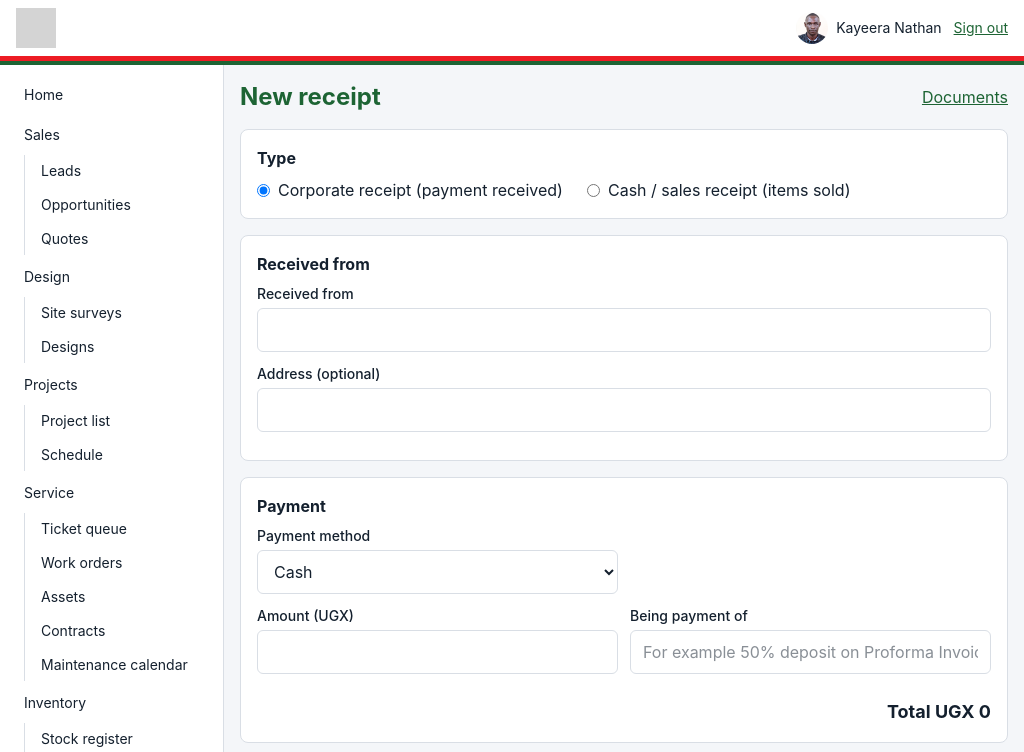
Test: receipts › needs at least one item for a cash / sales receipt
Type "Walk-in customer" into the field labelled "Received from".
click(624, 330); type("Walk-in customer")  # box [257,308,991,352]
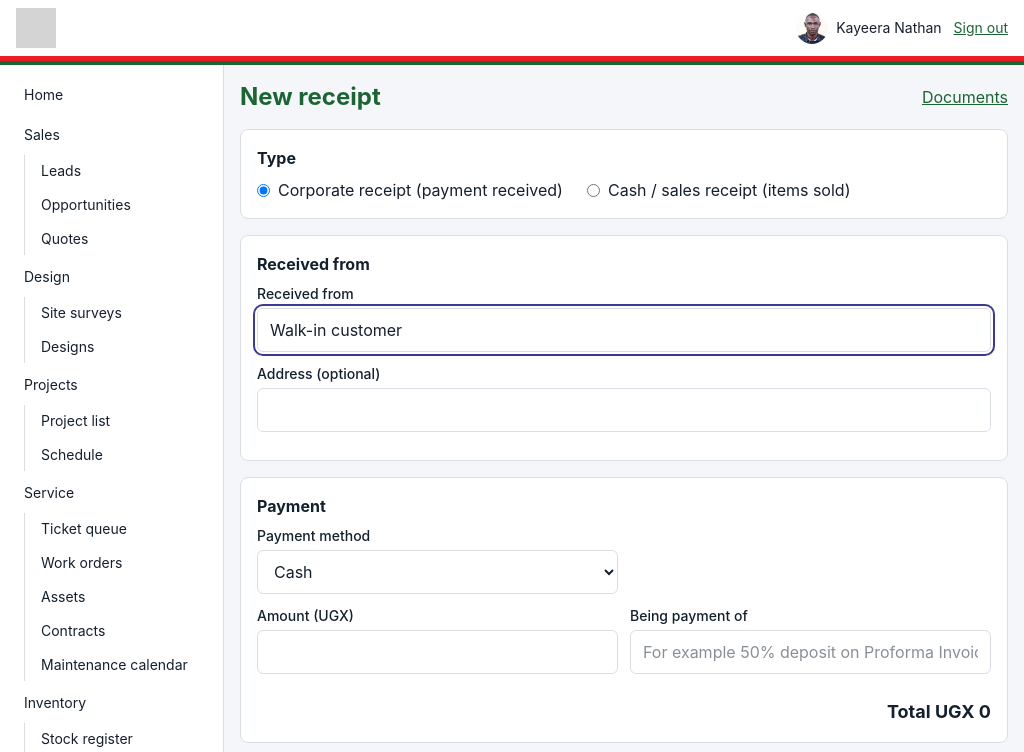
Click the radio button labelled "Cash / sales receipt (items sold)".
click(594, 190)  # box [587,184,600,196]
(page scrolled)
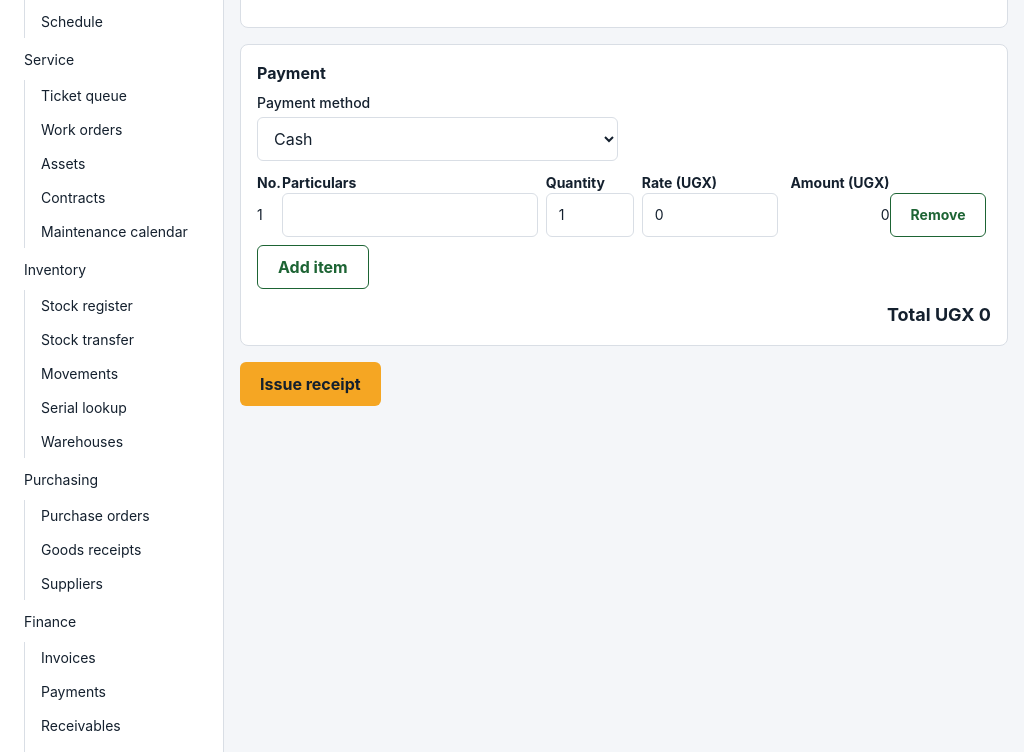
Click the button "Issue receipt".
click(310, 384)  # box [240,362,381,406]
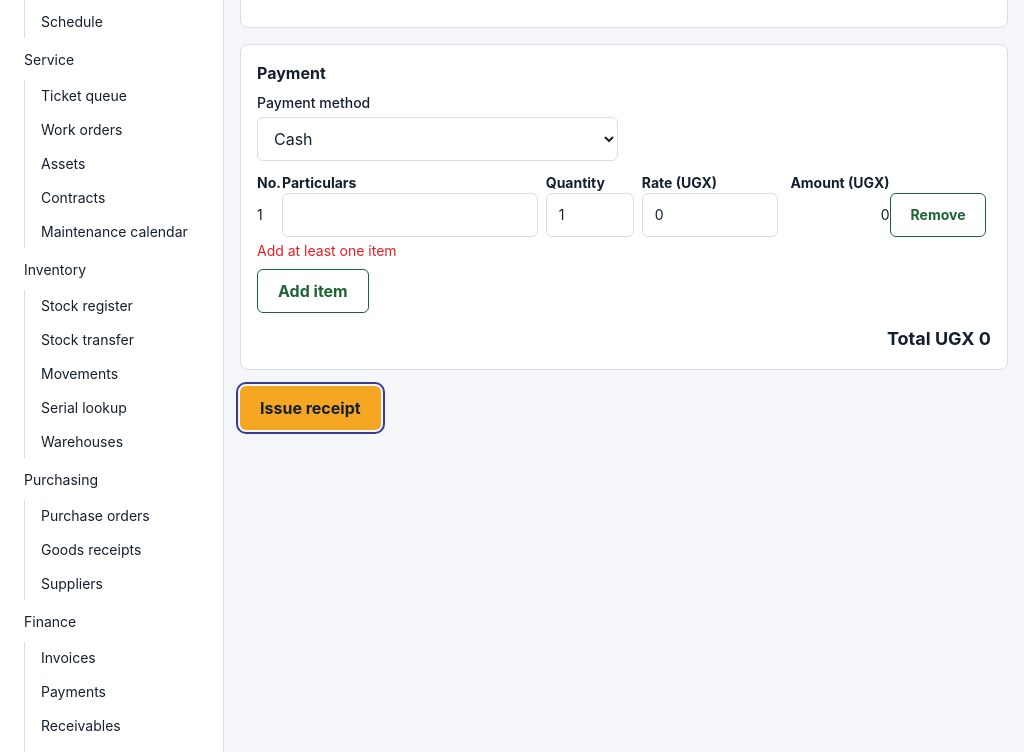
Now the text "Add at least one item" is shown, box [257,242,397,259]
